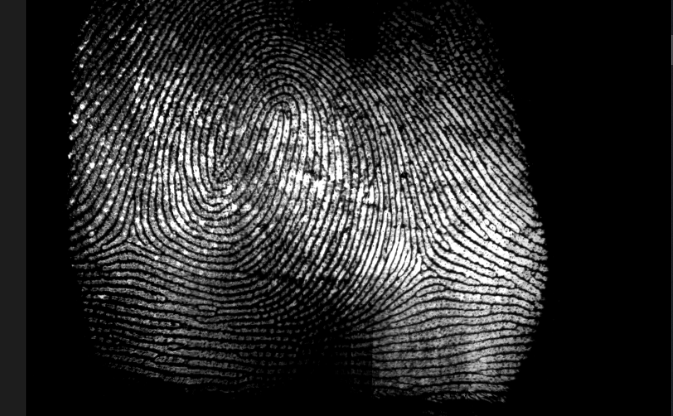deltas: (101, 205, 161, 262), (398, 239, 457, 294)
nucleo: (194, 92, 298, 195)
